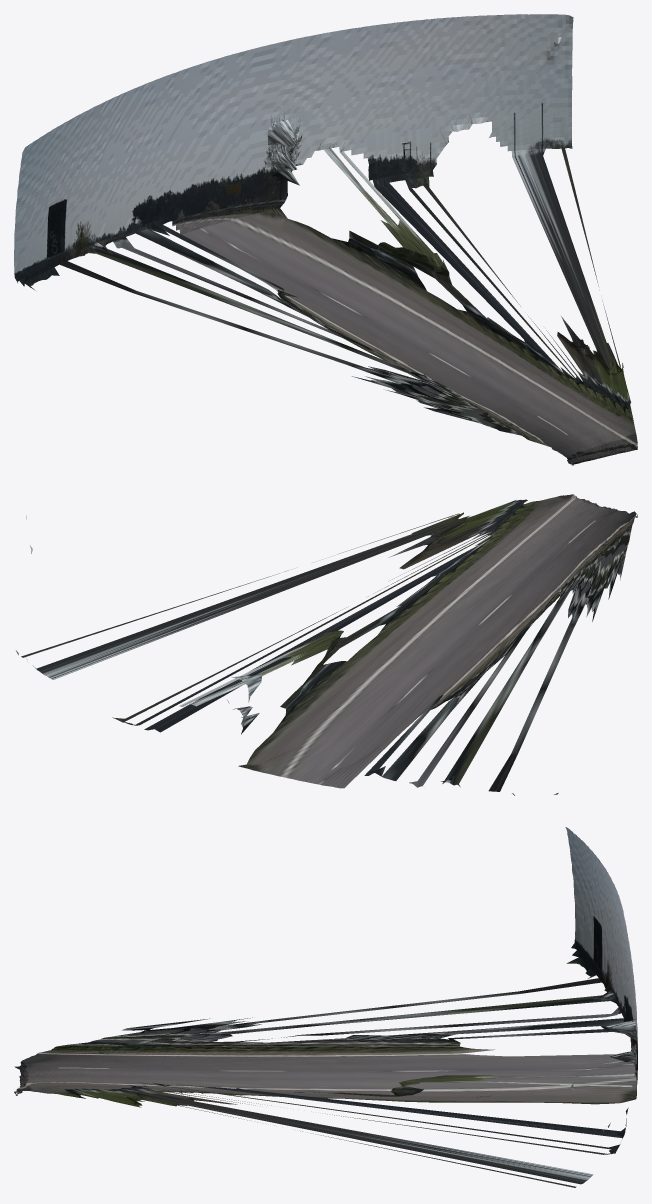
The picture shows the model from 3 angles, top to bottom: view 1: azimuth 30°, elevation 25°; view 2: azimuth 150°, elevation 25°; view 3: azimuth 270°, elevation 25°; orthographic projection. The views are drawn at different scales.
Parts seen in each view (by area): view 1: defaultobject; view 2: defaultobject; view 3: defaultobject.
Boxes of the visible parts, <box> form: defaultobject: <box>14,14,637,465</box>; defaultobject: <box>16,494,637,795</box>; defaultobject: <box>14,827,637,1187</box>.
Size of the model in its own units: 41.16 by 12.41 by 44.53.
1 material, 1 textured.
